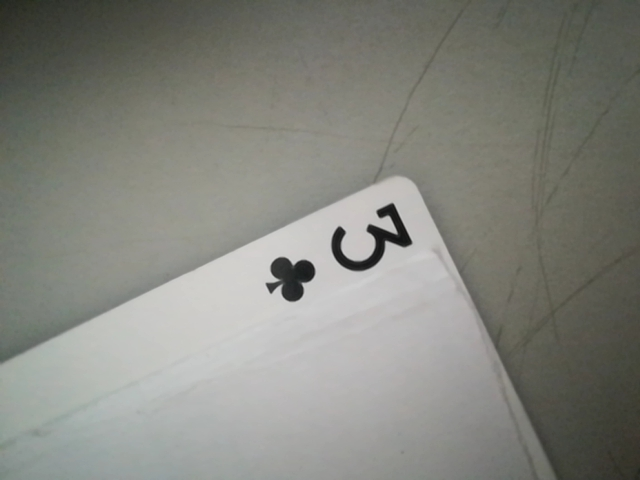mh 3: (244, 195, 435, 298)
